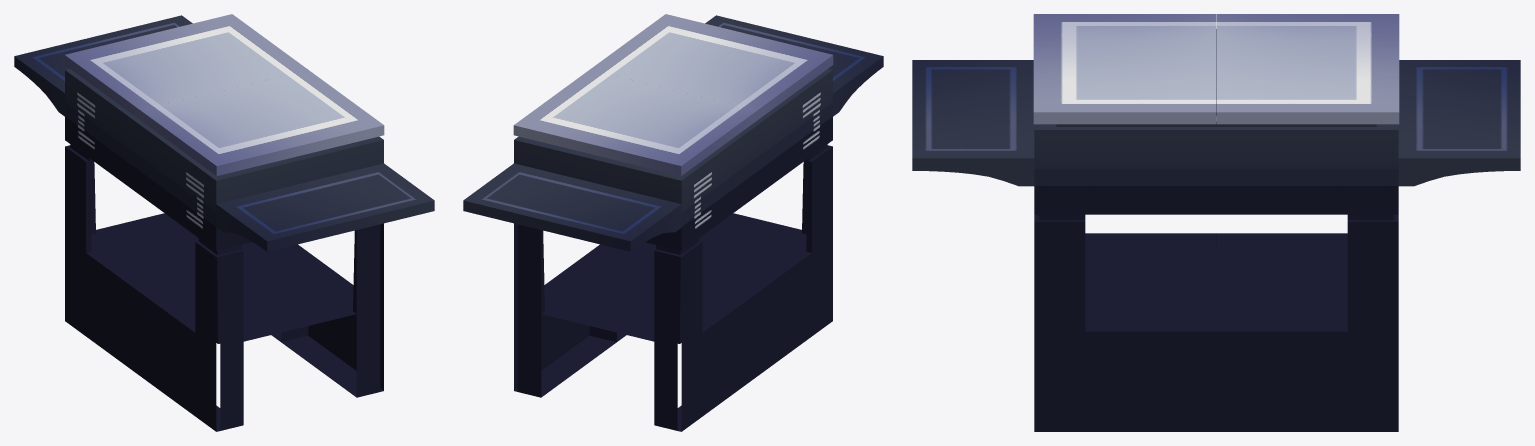
File: Grill.fbx
3 views of the same model, side by side, from view 1: azimuth 30°, elevation 25°; view 2: azimuth 150°, elevation 25°; view 3: azimuth 270°, elevation 25° (orthographic). The views are drawn at different scales.
Parts seen in each view (by area): view 1: grillBody, grillTop; view 2: grillBody, grillTop; view 3: grillBody, grillTop.
Part boxes in pixels (bbox=[...]): grillBody: bbox=[14, 15, 434, 431]; grillTop: bbox=[64, 14, 384, 175]; grillBody: bbox=[463, 15, 883, 431]; grillTop: bbox=[513, 14, 833, 175]; grillBody: bbox=[912, 29, 1520, 431]; grillTop: bbox=[1033, 14, 1399, 124].
Bounding box in the file's own units: 1750 × 2655 × 4576.
Materials: 1 (1 with a texture image).
